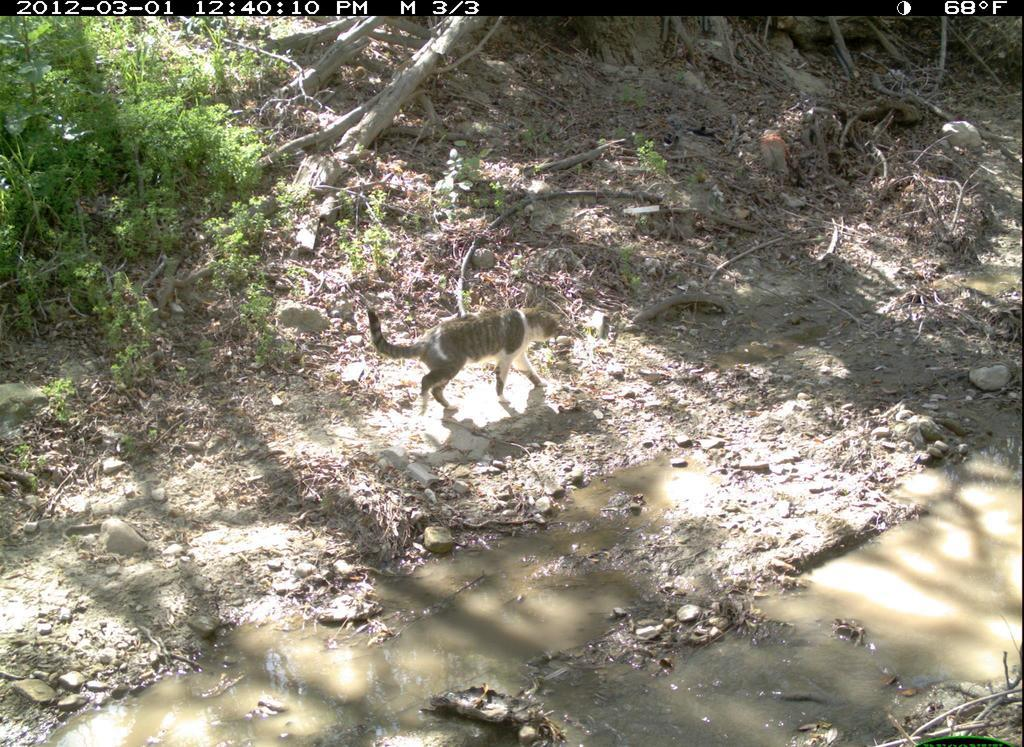cat: (358, 296, 571, 425)
